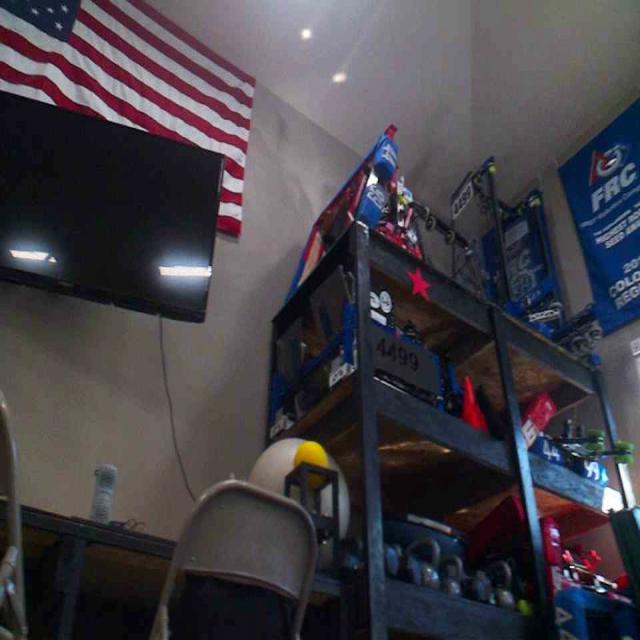star_red: (405, 263, 431, 301)
